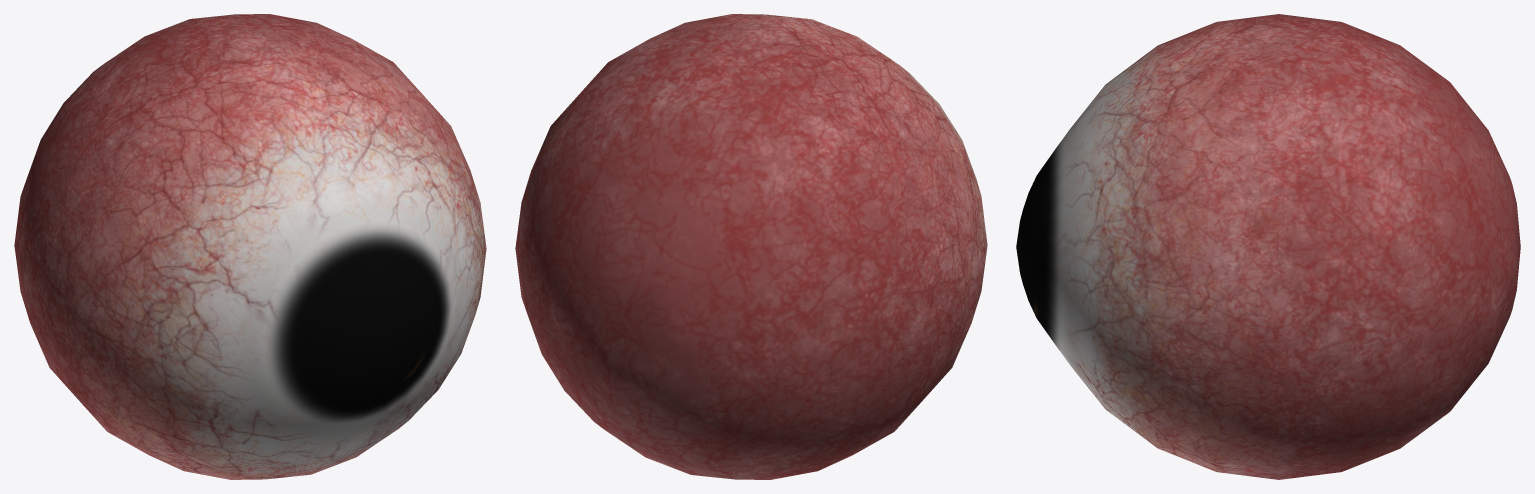
Rendered from brown_eyeball_free.fbx.
3 renders of one model, left to right at view 1: azimuth 30°, elevation 25°; view 2: azimuth 150°, elevation 25°; view 3: azimuth 270°, elevation 25°, orthographic.
Visible parts, largest first — view 1: node_a39706ad_594f_4e5a_89de_9ebe6f31478e_mesh0; view 2: node_a39706ad_594f_4e5a_89de_9ebe6f31478e_mesh0; view 3: node_a39706ad_594f_4e5a_89de_9ebe6f31478e_mesh0.
Boxes of the visible parts, x1,y1,x2,y2 form: node_a39706ad_594f_4e5a_89de_9ebe6f31478e_mesh0: [14, 14, 486, 479]; node_a39706ad_594f_4e5a_89de_9ebe6f31478e_mesh0: [515, 14, 987, 479]; node_a39706ad_594f_4e5a_89de_9ebe6f31478e_mesh0: [1016, 14, 1520, 479].
Size of the model in its own units: 185 by 185 by 200.
1 material, 1 textured.
